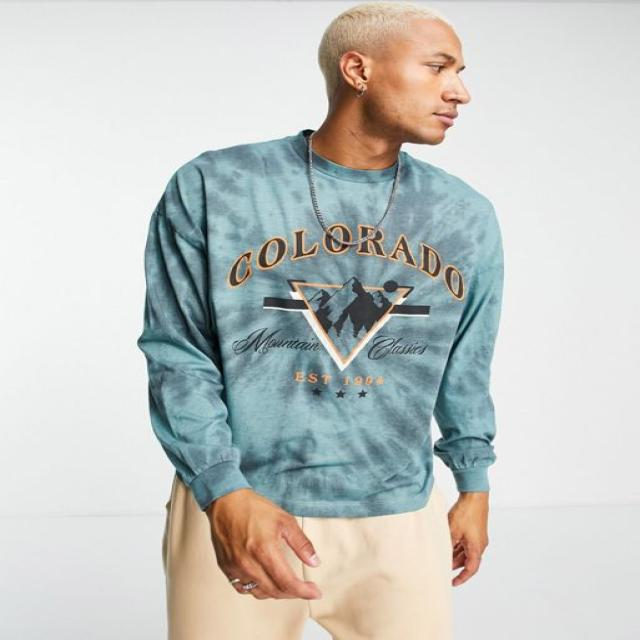tshirt: (136, 128, 506, 517)
